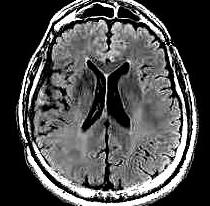Normal_Brain: (1, 1, 210, 206)
